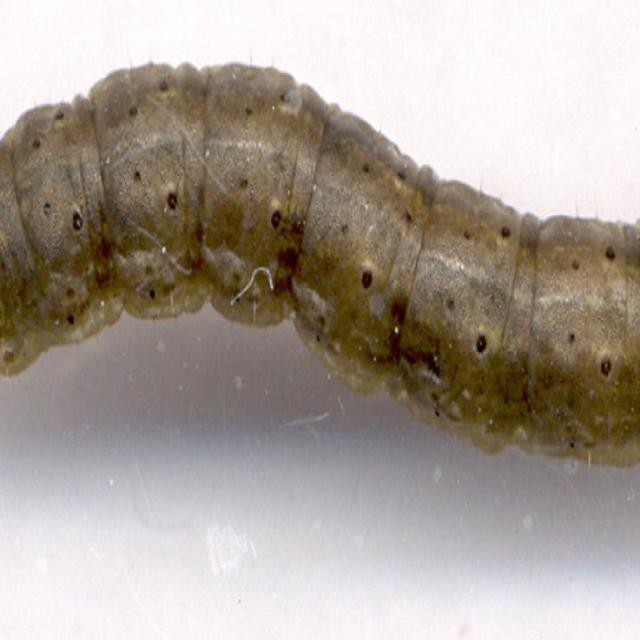Cutworm: (1, 61, 640, 468)
